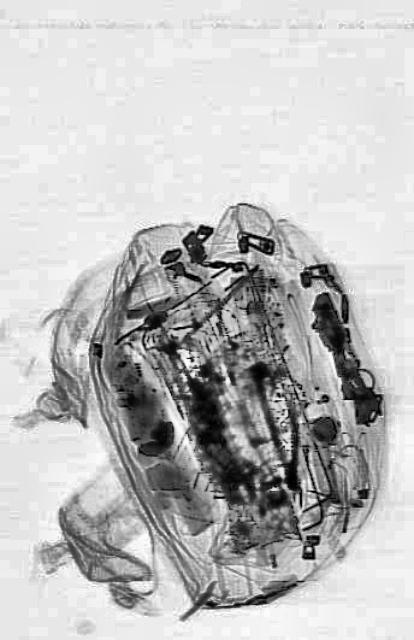Pliers: (253, 367, 312, 499)
